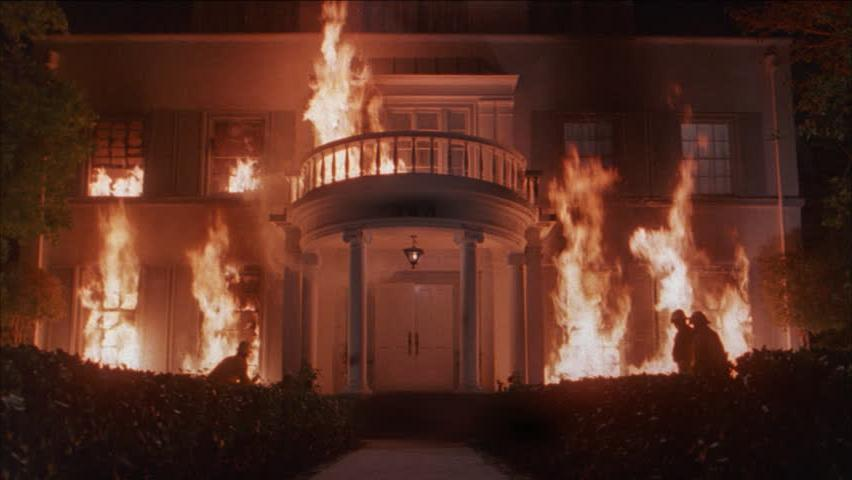fire: (635, 143, 753, 380), (539, 154, 622, 390), (297, 10, 403, 184), (188, 210, 264, 387), (75, 211, 153, 375), (85, 159, 149, 201), (216, 148, 268, 198)
